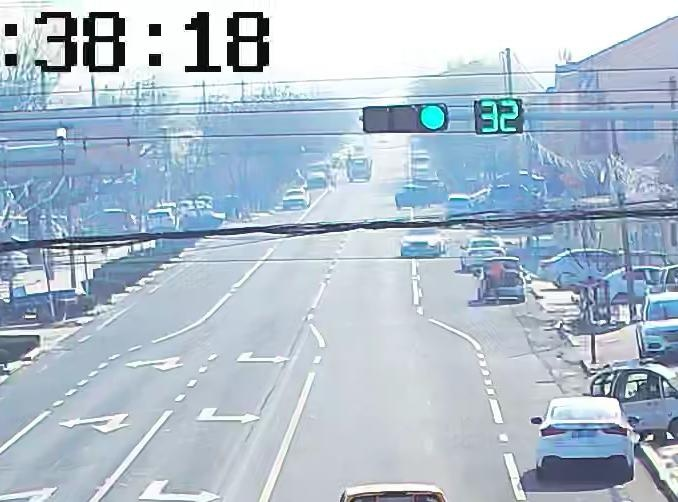green: (419, 104, 448, 132)
greentime: (478, 100, 523, 132)
